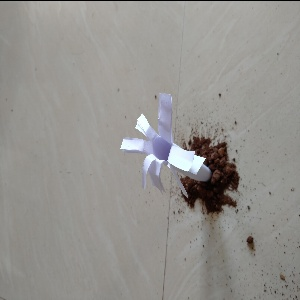weed: (116, 97, 207, 197)
